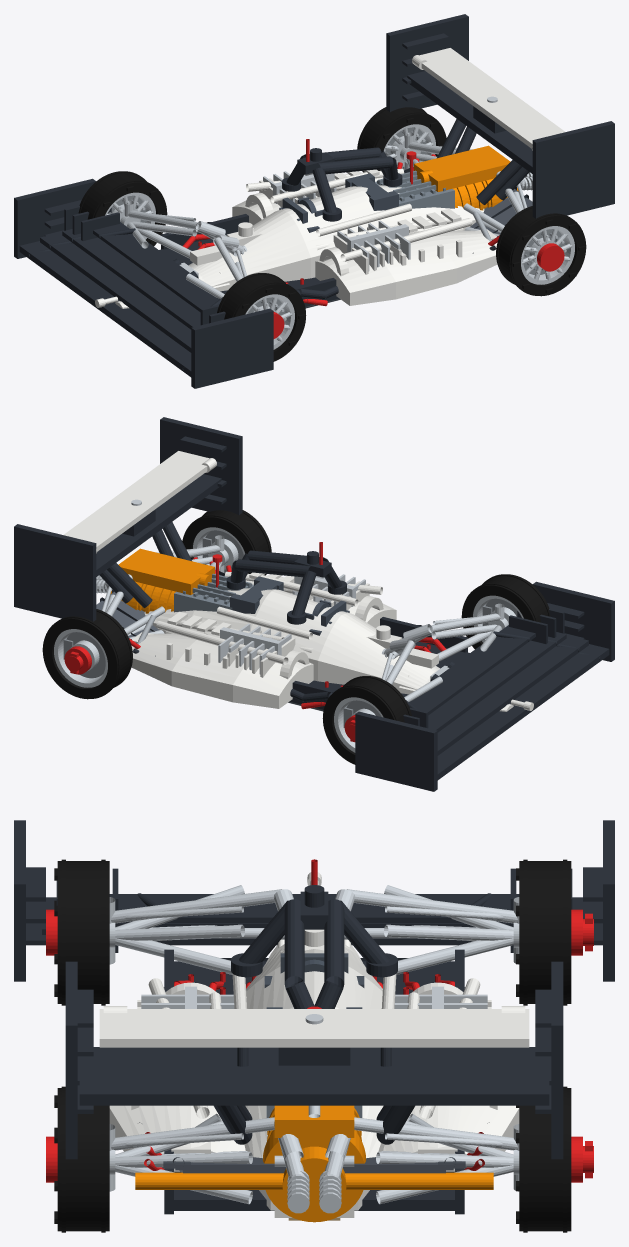
File: FORMULA_EV_V3_COMPLETE_2022_2025_FLOOR.glb
3 renders of one model, top to bottom at view 1: azimuth 30°, elevation 25°; view 2: azimuth 150°, elevation 25°; view 3: azimuth 270°, elevation 25°, orthographic. The views are drawn at different scales.
Visible parts, largest first — view 1: Four-element front wing, Rear wing mainplane, Sculpted sidepods and radiator ducts, Enhanced monocoque, DRS flap animated, Rear left slick tire, Front pushrod suspension, Motor gearbox and cooling, Enhanced halo, Front left slick tire, Radiator cooling system, Front right slick tire (+11 smaller); view 2: Four-element front wing, Rear wing mainplane, Sculpted sidepods and radiator ducts, Enhanced monocoque, DRS flap animated, Rear right slick tire, Front pushrod suspension, Motor gearbox and cooling, Enhanced halo, Front right slick tire, Radiator cooling system, Front left slick tire (+11 smaller); view 3: Rear wing mainplane, DRS flap animated, Four-element front wing, Front pushrod suspension, Rear pushrod suspension, Motor gearbox and cooling, Sculpted sidepods and radiator ducts, Enhanced halo, Front left slick tire, Front right slick tire, Enhanced monocoque, 22_upper_floor_body (+8 smaller).
Part boxes in pixels (box(x1,y1,x2,y2)): Four-element front wing: box(14, 178, 273, 388); Rear wing mainplane: box(386, 14, 614, 218); Sculpted sidepods and radiator ducts: box(232, 168, 497, 305); Enhanced monocoque: box(188, 172, 484, 287); DRS flap animated: box(412, 48, 565, 150); Rear left slick tire: box(496, 206, 586, 296); Front pushrod suspension: box(120, 200, 247, 298); Motor gearbox and cooling: box(414, 145, 518, 210); Enhanced halo: box(282, 147, 402, 221); Front left slick tire: box(217, 273, 306, 361); Radiator cooling system: box(263, 171, 410, 271); Front right slick tire: box(78, 171, 167, 246); Four-element front wing: box(355, 581, 614, 791); Rear wing mainplane: box(14, 417, 242, 621); Sculpted sidepods and radiator ducts: box(131, 571, 396, 708); Enhanced monocoque: box(144, 575, 440, 690); DRS flap animated: box(63, 451, 216, 553); Rear right slick tire: box(42, 609, 132, 699); Front pushrod suspension: box(382, 603, 508, 701); Motor gearbox and cooling: box(110, 548, 214, 613); Enhanced halo: box(226, 550, 346, 624); Front right slick tire: box(322, 676, 411, 764); Radiator cooling system: box(218, 574, 365, 674); Front left slick tire: box(461, 574, 550, 649); Rear wing mainplane: box(65, 961, 563, 1159); DRS flap animated: box(99, 1006, 529, 1047); Four-element front wing: box(14, 820, 614, 981); Front pushrod suspension: box(109, 885, 519, 974); Rear pushrod suspension: box(109, 1112, 519, 1213); Motor gearbox and cooling: box(135, 1105, 493, 1222); Sculpted sidepods and radiator ducts: box(109, 978, 519, 1171); Enhanced halo: box(231, 885, 397, 1008); Front left slick tire: box(54, 859, 109, 1005); Front right slick tire: box(516, 859, 571, 1005); Enhanced monocoque: box(232, 929, 396, 1217); 22_upper_floor_body: box(164, 949, 464, 1214).
Bounding box in the file's own units: 214 × 70.85 × 151.
